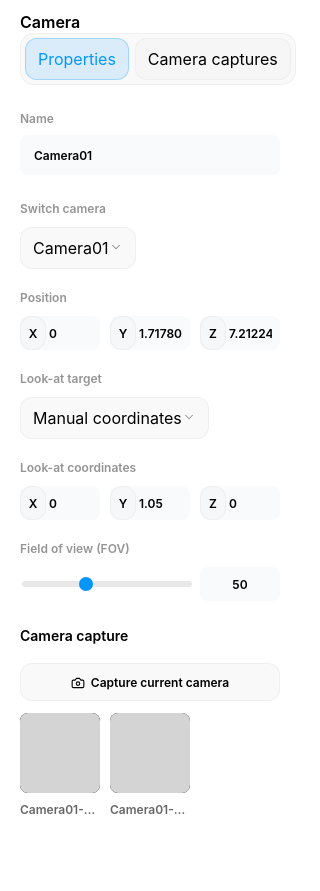
Test: shows all camera screenshots grouped by camera in the screenshots tab
The width and height of the screenshot is (320, 891).
Click the button "Camera captures": point(213, 59) [135,38,291,80]
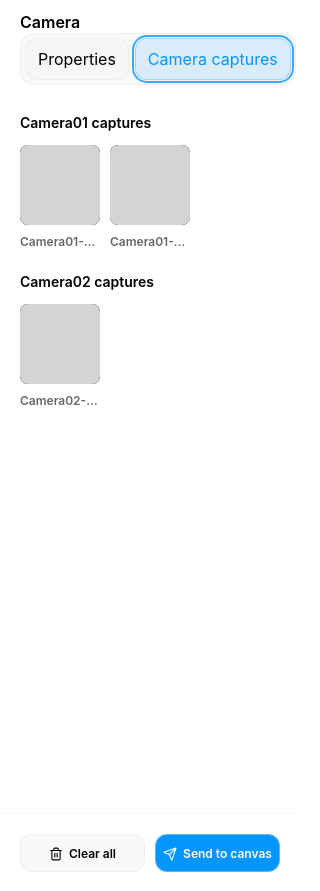
Check: the heading "Camera01 captures" is shown, box [20,114,151,131]
Check: the heading "Camera02 captures" is shown, box [20,273,154,290]
Check: the text "Camera02-Capture01" is shown, box [20,392,100,409]
